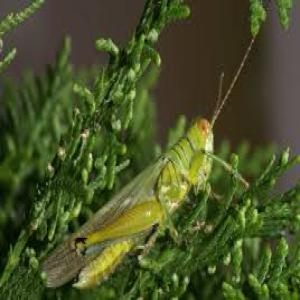locust: (46, 89, 261, 296)
